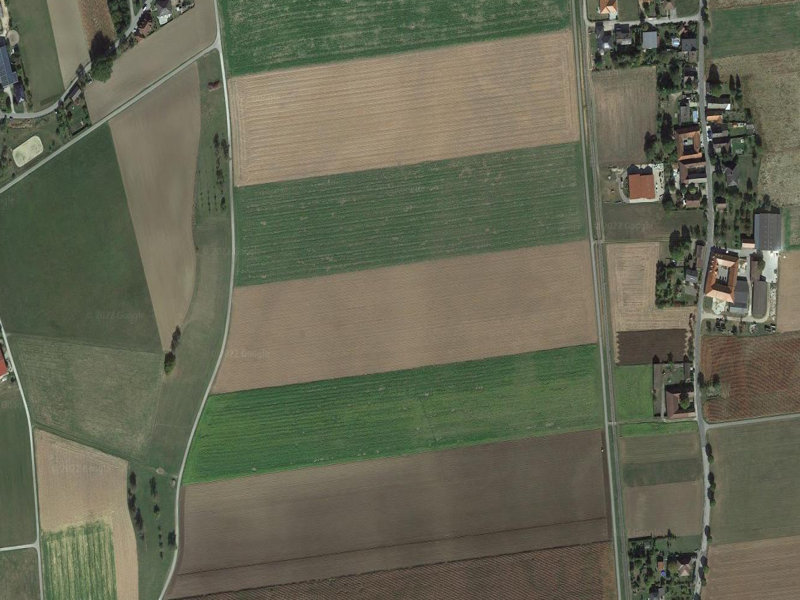field: (233, 141, 591, 287)
